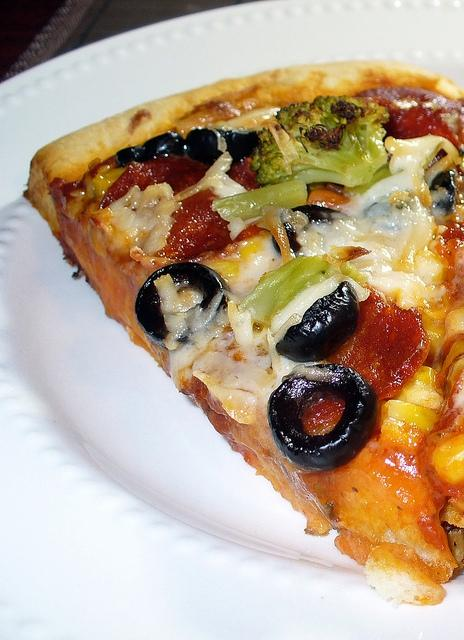broccoli: (250, 95, 390, 188), (238, 254, 369, 328), (212, 178, 308, 222)
corn: (381, 400, 436, 432), (432, 434, 464, 486), (381, 418, 425, 448), (422, 313, 446, 357), (414, 249, 444, 282), (199, 260, 240, 280), (413, 172, 432, 208), (423, 294, 449, 320), (237, 114, 278, 130), (408, 366, 435, 389), (240, 242, 260, 262), (386, 136, 402, 156), (388, 189, 410, 203), (396, 289, 410, 310)
